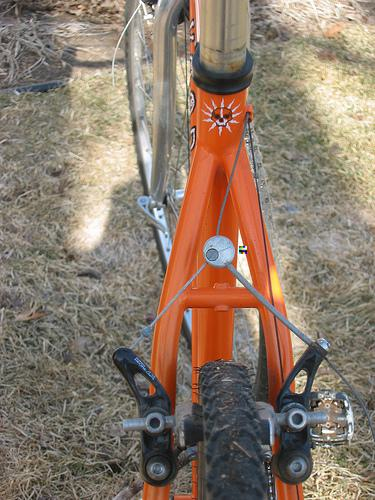car: (111, 1, 375, 500)
